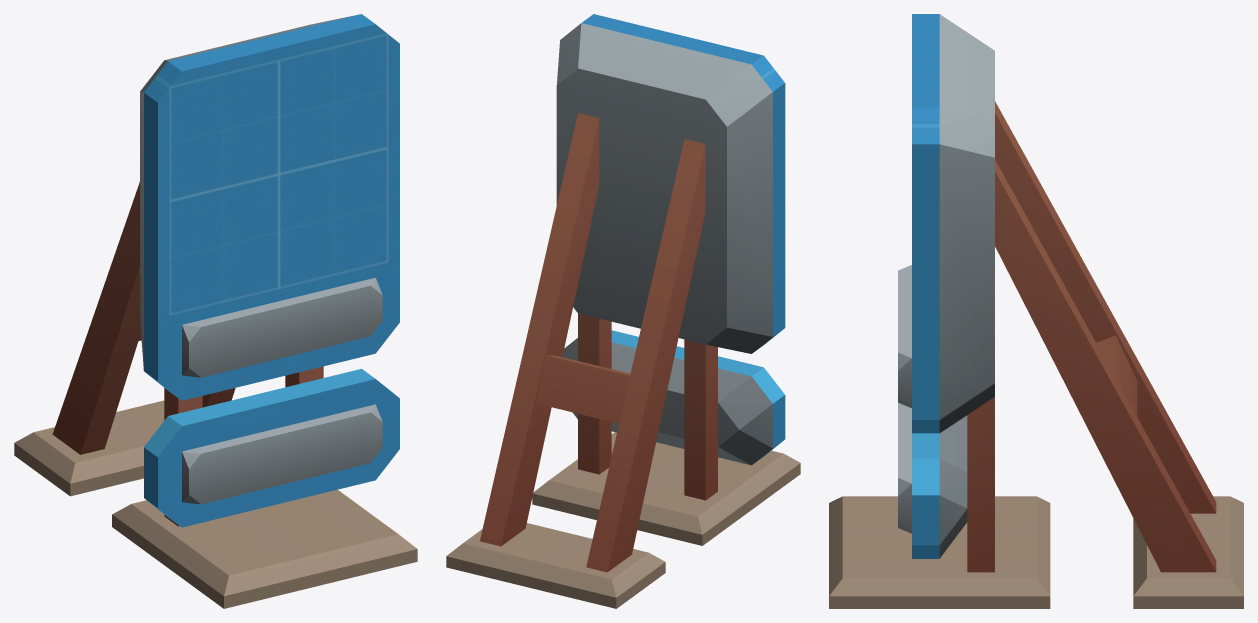
Rendered from target-stand-a.glb.
3 renders of one model, left to right at view 1: azimuth 30°, elevation 25°; view 2: azimuth 150°, elevation 25°; view 3: azimuth 270°, elevation 25°, orthographic. The views are drawn at different scales.
Visible parts, largest first — view 1: target_stand_A; view 2: target_stand_A; view 3: target_stand_A.
Part boxes in pixels (x1,y1,x2,y2): target_stand_A: (14,14,417,608); target_stand_A: (446,14,800,608); target_stand_A: (829,14,1243,608).
Bounding box in the file's own units: 0.9998 × 2 × 1.5.
1 material, 1 textured.
